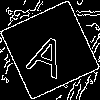A: (25, 25, 73, 79)
